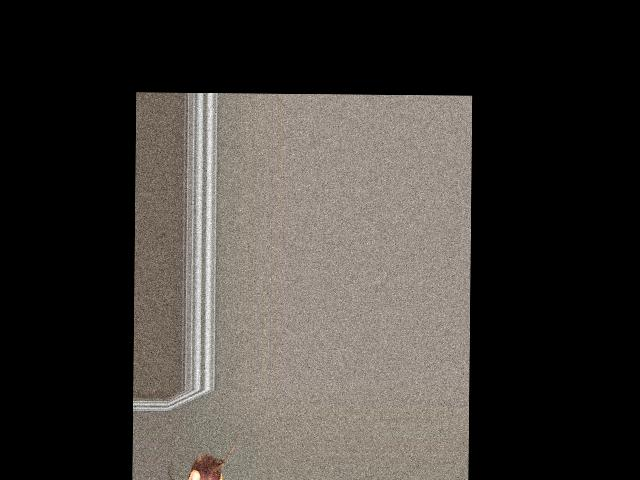beet: (167, 430, 236, 480)
